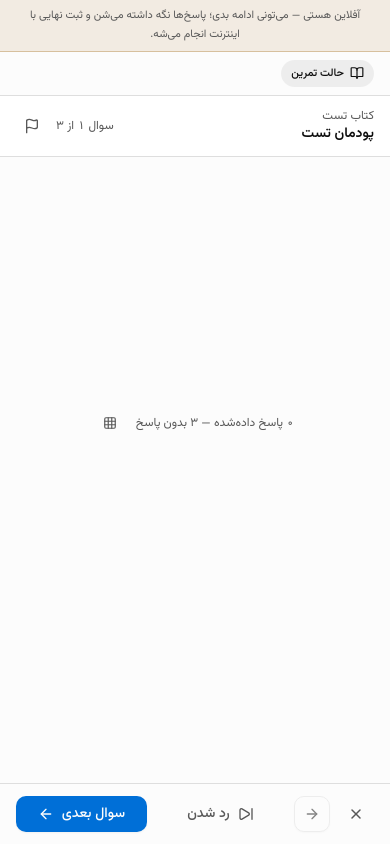
Test: ExamView question navigation stability › keeps exactly one question visible through rapid successive skips
What coordinates should you click on to do the following:
click the button "رد شدن"
I would click on:
 (220, 814)
Its box is x1=155 y1=796 x2=286 y2=832.
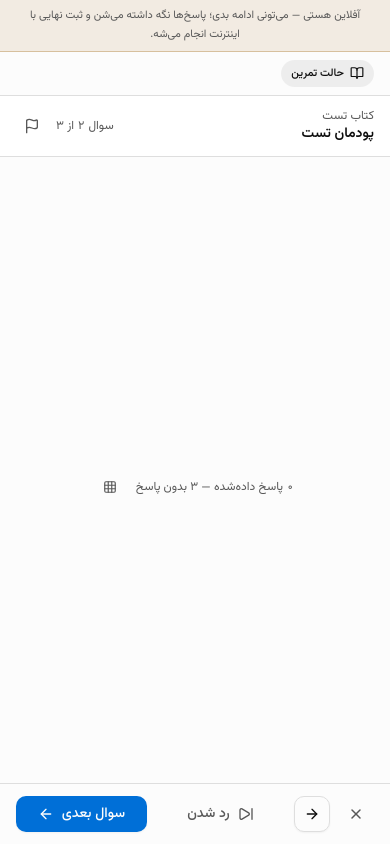
# second rapid click before any animation could settle
What coordinates should you click on to do the following:
click the button "رد شدن"
I would click on:
 (220, 814)
Its box is x1=155 y1=796 x2=286 y2=832.
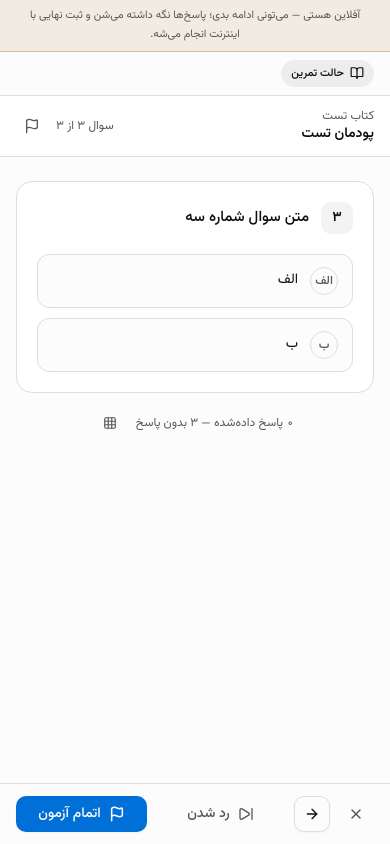
Expected: the text "متن سوال شماره سه" is shown, x1=185 y1=202 x2=309 y2=234
